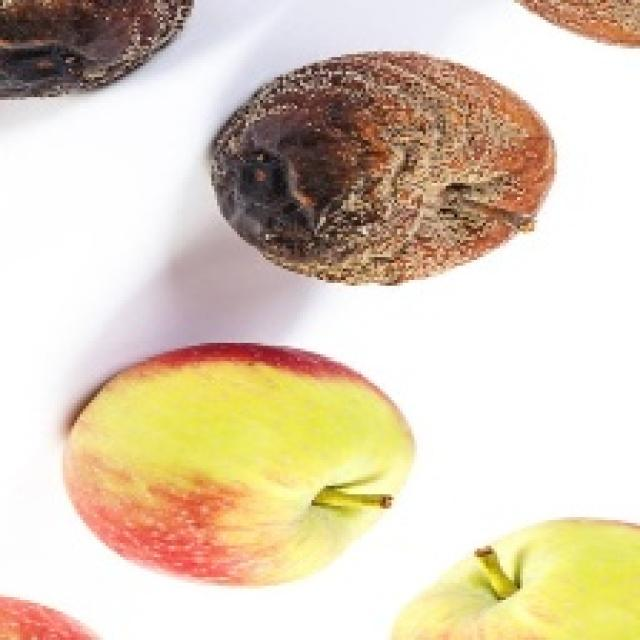rotten_apple: (219, 54, 552, 282), (0, 0, 191, 91)
